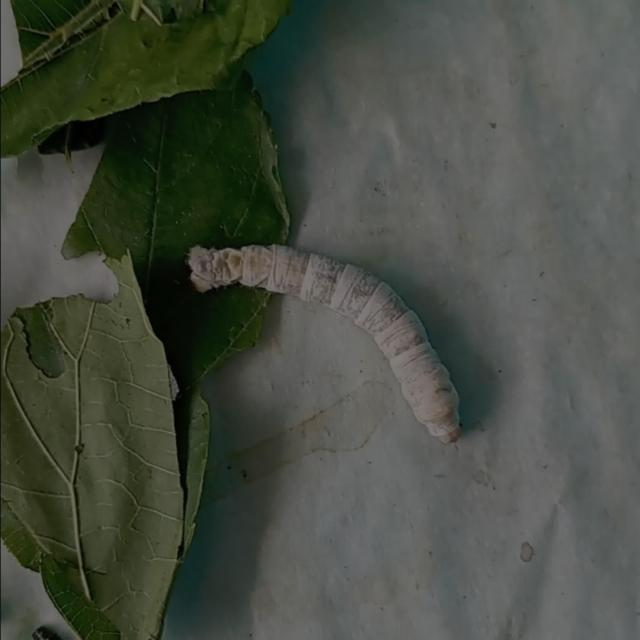Grasserie: (182, 221, 468, 446)
